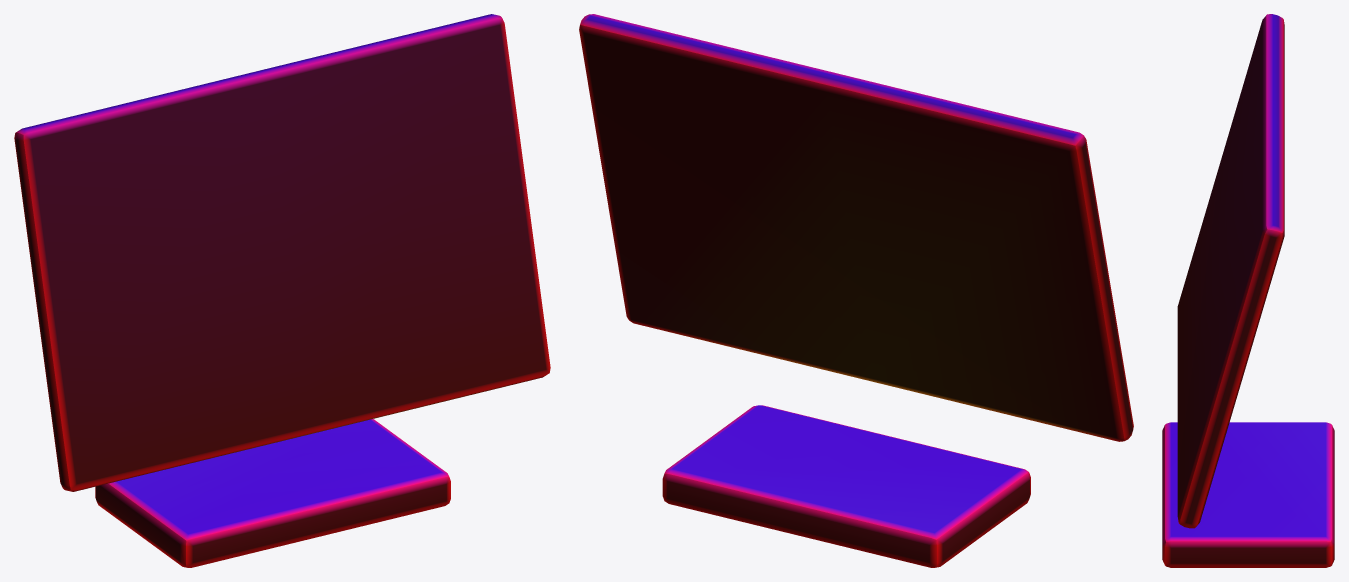
File: prop_price_card.fbx
3 renders of one model, left to right at view 1: azimuth 30°, elevation 25°; view 2: azimuth 150°, elevation 25°; view 3: azimuth 270°, elevation 25°, orthographic. The views are drawn at different scales.
Visible parts, largest first — view 1: prop_price_card; view 2: prop_price_card; view 3: prop_price_card.
Part boxes in pixels (x1,y1,x2,y2): prop_price_card: (14, 14, 550, 567); prop_price_card: (579, 14, 1133, 567); prop_price_card: (1162, 14, 1334, 567).
Size of the model in its own units: 0.09 by 0.0752 by 0.03.
